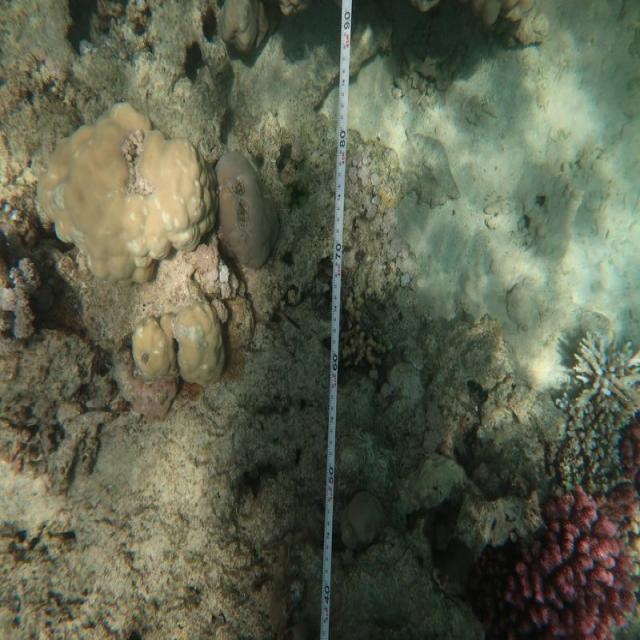Healthy Coral: (33, 107, 216, 289), (440, 478, 640, 639)
